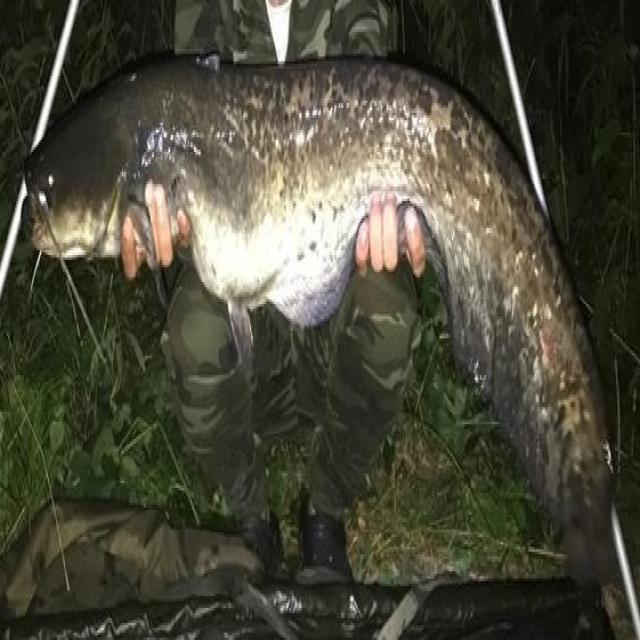Catfish: (9, 40, 626, 611)
